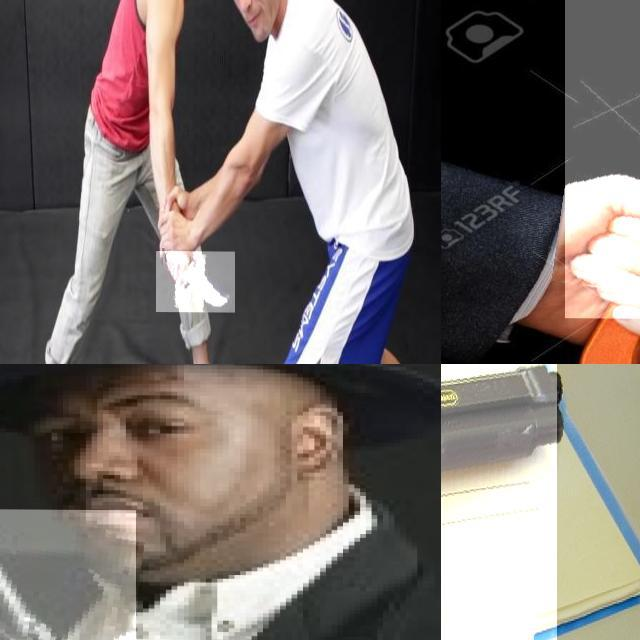-: (565, 0, 640, 320), (156, 250, 235, 312)
gun-knife-thesis - v11 Yolov5 augmented: (441, 364, 640, 640), (0, 508, 135, 640)
